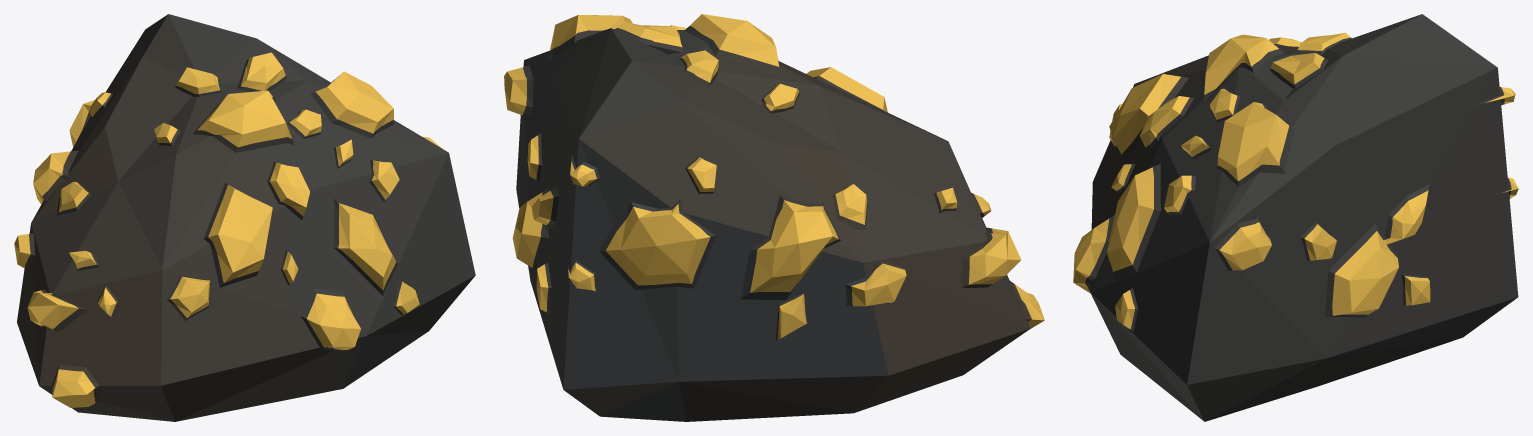
File: Gold Ore Rock.fbx
3 views of the same model, side by side, from view 1: azimuth 30°, elevation 25°; view 2: azimuth 150°, elevation 25°; view 3: azimuth 270°, elevation 25° (orthographic). The views are drawn at different scales.
Parts seen in each view (by area): view 1: Gold Ore Rock.Static; view 2: Gold Ore Rock.Static; view 3: Gold Ore Rock.Static.
Part boxes in pixels (<box>): Gold Ore Rock.Static: <box>14,14,475,421</box>; Gold Ore Rock.Static: <box>504,14,1044,421</box>; Gold Ore Rock.Static: <box>1073,14,1518,421</box>.
Size of the model in its own units: 164 by 103 by 131.
